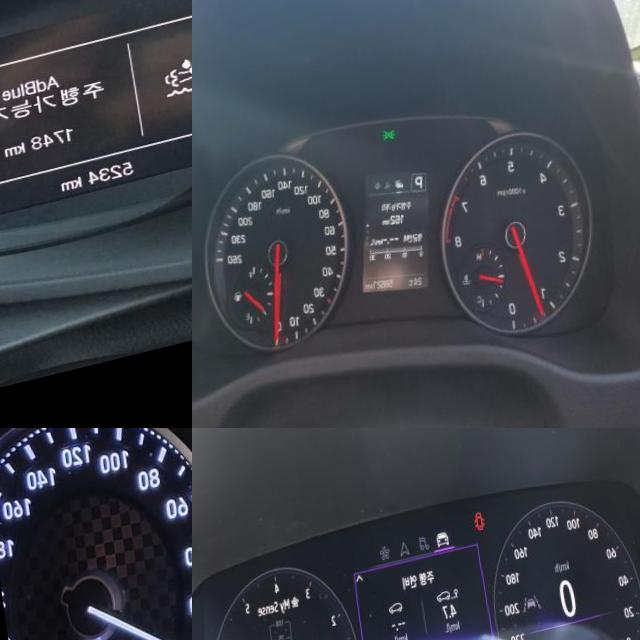Doors: (465, 528, 479, 551)
SideLamp: (374, 141, 389, 157)
